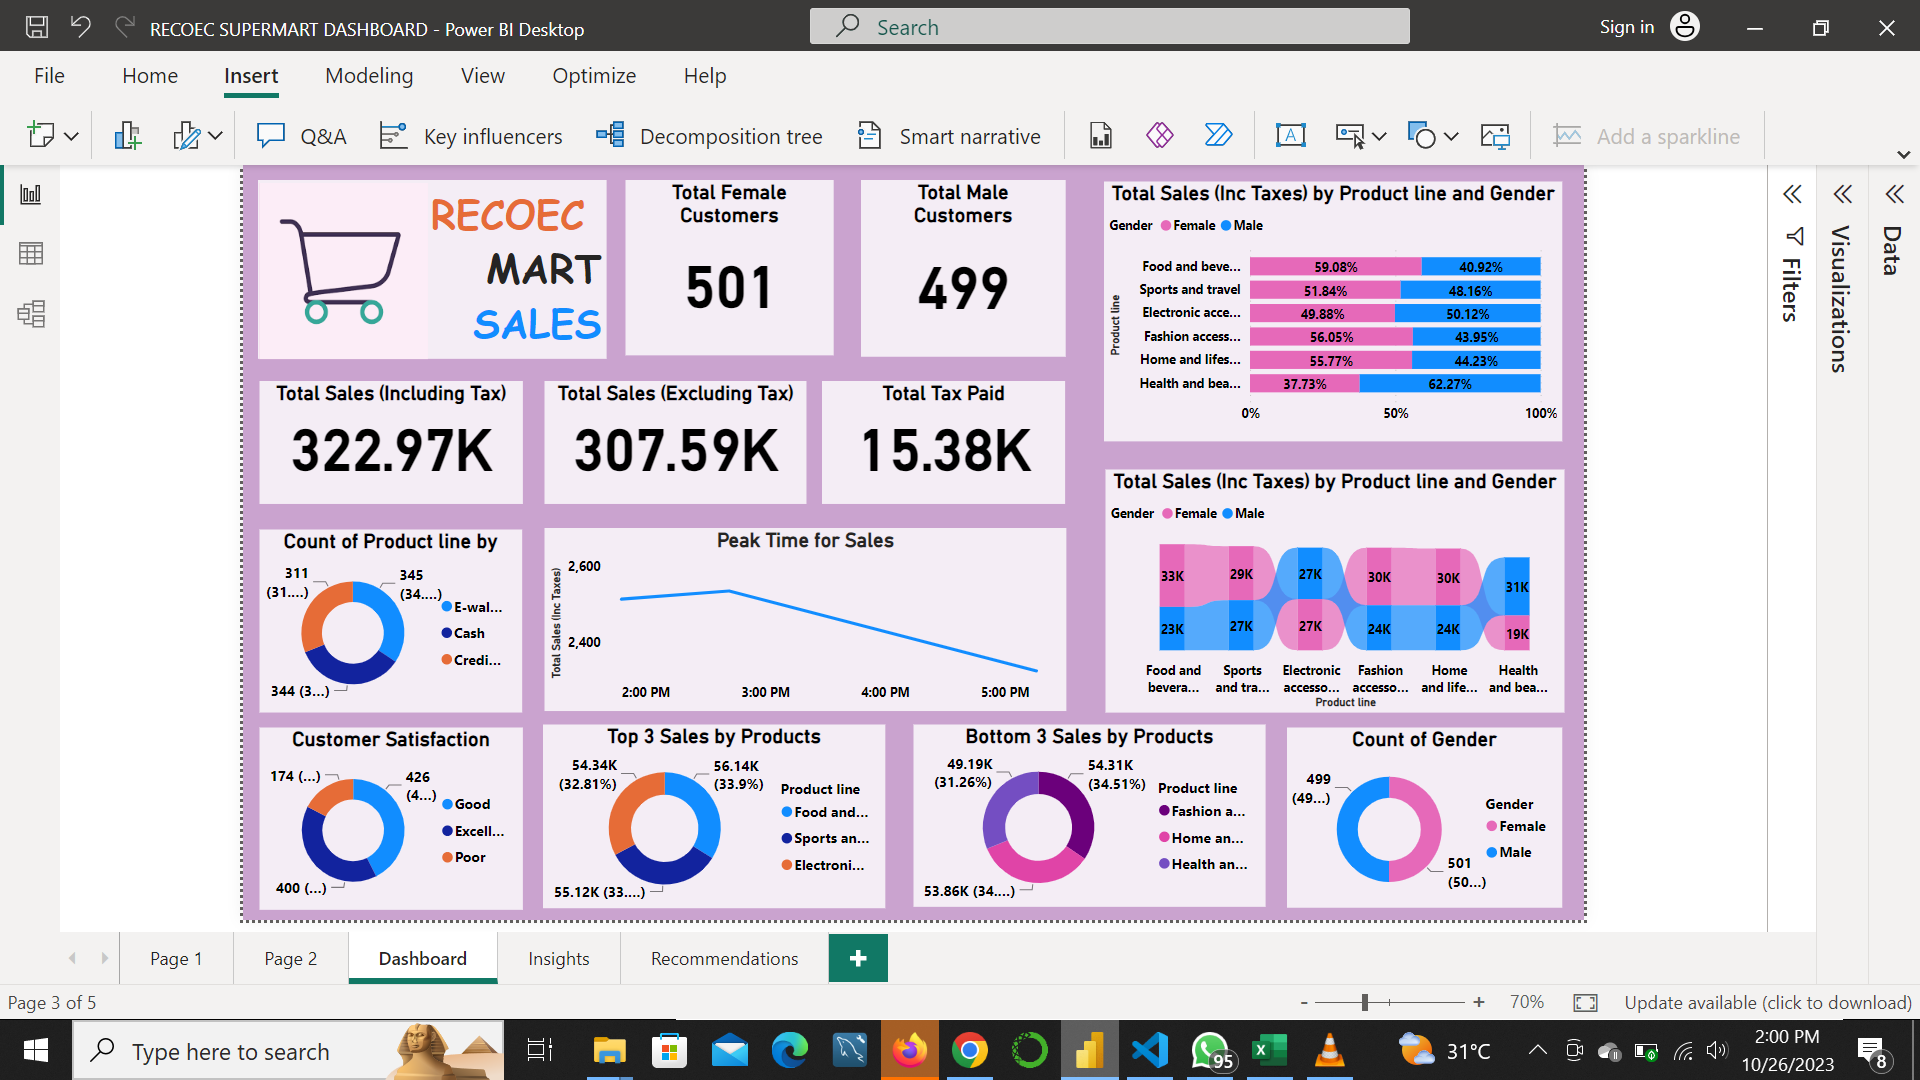

This screenshot's page, from the dashboard's own definition file:
{"tool":"powerbi","page":{"name":"Dashboard","canvas":[1280,720],"ordinal":2},"visuals":[{"type":"ribbonChart","title":"Total Sales (Inc Taxes) by Product line and Gender","fields":{"Category":["ECORET Supermart Sales.Product line"],"Y":["Sum(ECORET Supermart Sales.Total (Inc Taxes))"],"Series":["ECORET Supermart Sales.Gender"]},"box":[823.1,290.7,438,232.2],"z":0},{"type":"hundredPercentStackedBarChart","title":"Total Sales (Inc Taxes) by Product line and Gender","fields":{"Category":["ECORET Supermart Sales.Product line"],"Y":["Sum(ECORET Supermart Sales.Total (Inc Taxes))"],"Series":["ECORET Supermart Sales.Gender"]},"box":[821.5,15.6,437.3,248.3],"z":1000},{"type":"donutChart","fields":{"Category":["ECORET Supermart Sales.Payment"],"Y":["CountNonNull(ECORET Supermart Sales.Product line)"]},"box":[15.7,347.8,250.5,174.6],"z":2000},{"type":"donutChart","title":"Customer Satisfaction","fields":{"Category":["ECORET Supermart Sales.Customer Satisfaction"],"Y":["CountNonNull(ECORET Supermart Sales.Customer Satisfaction)"]},"box":[15.1,536.2,251.1,173.7],"z":3000},{"type":"donutChart","title":"Bottom 3 Sales by Products","fields":{"Y":["ECORET Supermart Sales.Sales + Tax"],"Category":["ECORET Supermart Sales.Product line"]},"box":[640,534.3,336,173.7],"z":4000},{"type":"donutChart","title":"Top 3 Sales by Products","fields":{"Y":["ECORET Supermart Sales.Sales + Tax"],"Category":["ECORET Supermart Sales.Product line"]},"box":[287,534.3,326.6,175.6],"z":5000},{"type":"donutChart","title":"Count of Gender ","fields":{"Category":["ECORET Supermart Sales.Gender"],"Y":["CountNonNull(ECORET Supermart Sales.Gender)"]},"box":[996.8,536.2,262.4,171.8],"z":6000},{"type":"card","title":"Total Female Customers","fields":{"Values":["CountNonNull(ECORET Supermart Sales.Gender)"]},"box":[365.6,14.8,198.4,167.2],"z":7000},{"type":"card","title":"Total  Male Customers","fields":{"Values":["CountNonNull(ECORET Supermart Sales.Gender)"]},"box":[590.2,14.8,195.1,168.9],"z":8000},{"type":"card","title":"Total Sales (Including Tax)","fields":{"Values":["Sum(ECORET Supermart Sales.Total (Inc Taxes))"]},"box":[15.1,205.8,251.1,117.1],"z":9000},{"type":"card","title":"Total Sales (Excluding Tax)","fields":{"Values":["ECORET Supermart Sales.Sales - Tax"]},"box":[287.4,206.2,249.9,117.1],"z":10000},{"type":"card","title":"Total Tax Paid","fields":{"Values":["Sum(ECORET Supermart Sales.Tax 5%)"]},"box":[553.2,205.8,232.2,117.1],"z":11000},{"type":"textbox","box":[14.8,14.8,332.8,170.5],"z":12000},{"type":"lineChart","title":"Peak Time for Sales","fields":{"Y":["Sum(ECORET Supermart Sales.Total (Inc Taxes))"],"Category":["ECORET Supermart Sales.Time"]},"box":[287.4,346.7,498.2,174.9],"z":13000},{"type":"actionButton","box":[15.1,17,160.5,168],"z":14000}]}

Visuals, with their boxes on the page's 1280x720 design canvas (x1, y1, x2, y2). These are canvas units, not pixel positions in the 1920x1080 screenshot, which may show the page scaled, cropped or inside an application window:
"Total Sales (Inc Taxes) by Product line and Gender" ribbonChart: [823,291,1261,523]
"Total Sales (Inc Taxes) by Product line and Gender" hundredPercentStackedBarChart: [822,16,1259,264]
donutChart - ECORET Supermart Sales.Payment x CountNonNull(ECORET Supermart Sales.Product line): [16,348,266,522]
"Customer Satisfaction" donutChart: [15,536,266,710]
"Bottom 3 Sales by Products" donutChart: [640,534,976,708]
"Top 3 Sales by Products" donutChart: [287,534,614,710]
"Count of Gender " donutChart: [997,536,1259,708]
"Total Female Customers" card: [366,15,564,182]
"Total  Male Customers" card: [590,15,785,184]
"Total Sales (Including Tax)" card: [15,206,266,323]
"Total Sales (Excluding Tax)" card: [287,206,537,323]
"Total Tax Paid" card: [553,206,785,323]
textbox: [15,15,348,185]
"Peak Time for Sales" lineChart: [287,347,786,522]
actionButton: [15,17,176,185]
